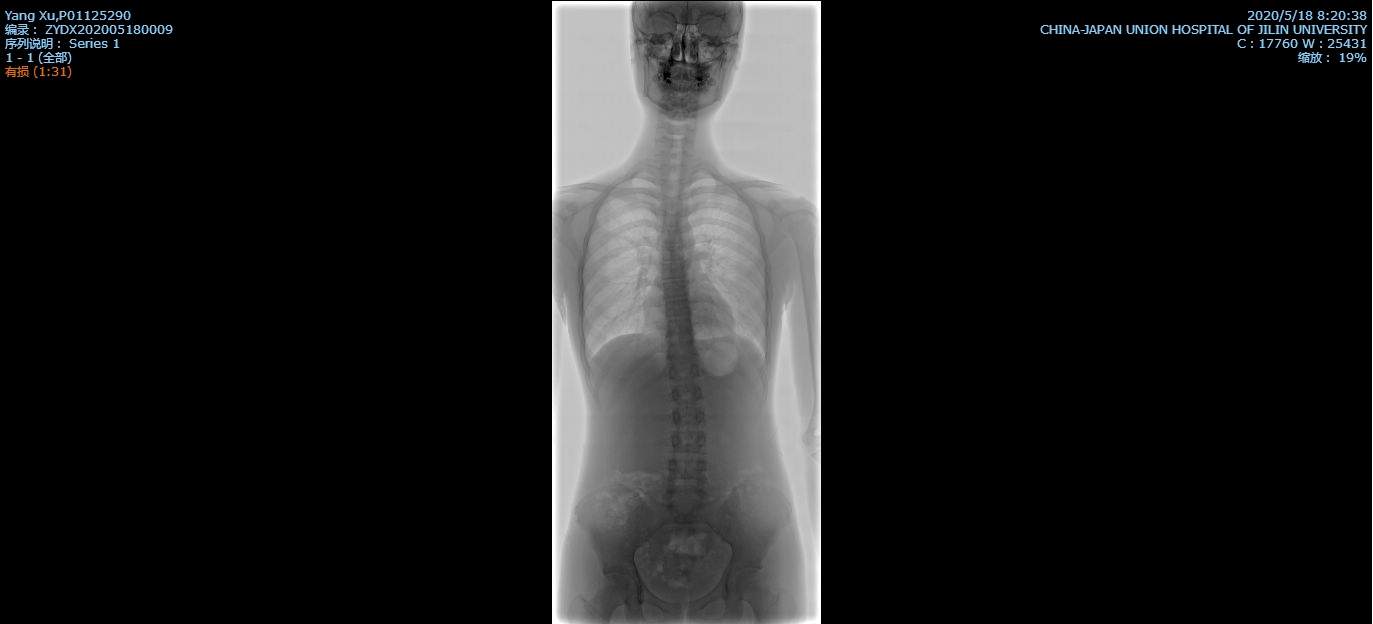Bone: (667, 487, 703, 507), (668, 459, 701, 479), (672, 430, 704, 450), (674, 408, 705, 424), (672, 387, 700, 403), (669, 365, 698, 380), (667, 343, 694, 359), (661, 282, 687, 298), (667, 319, 690, 336), (660, 262, 682, 277), (662, 245, 683, 260), (665, 301, 687, 315)
